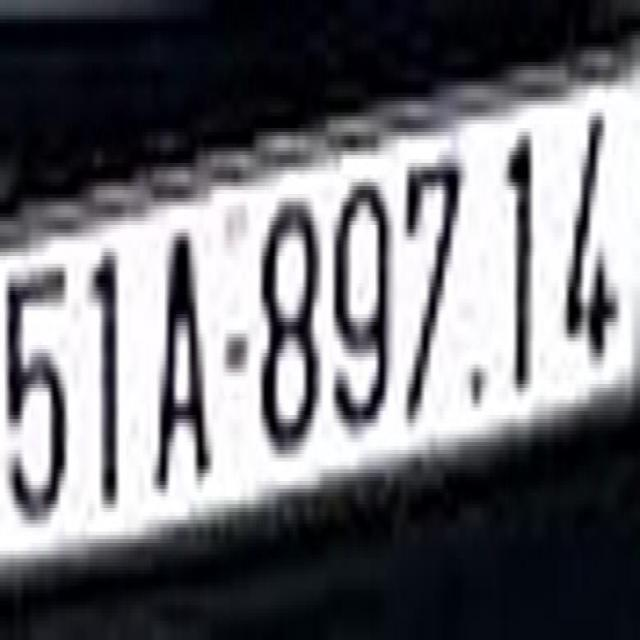1: (498, 112, 552, 419), (84, 233, 136, 532)
4: (564, 86, 618, 400)
5: (2, 237, 74, 528)
7: (397, 128, 462, 431)
8: (256, 166, 322, 470)
9: (329, 163, 392, 450)
A: (150, 221, 214, 504)
